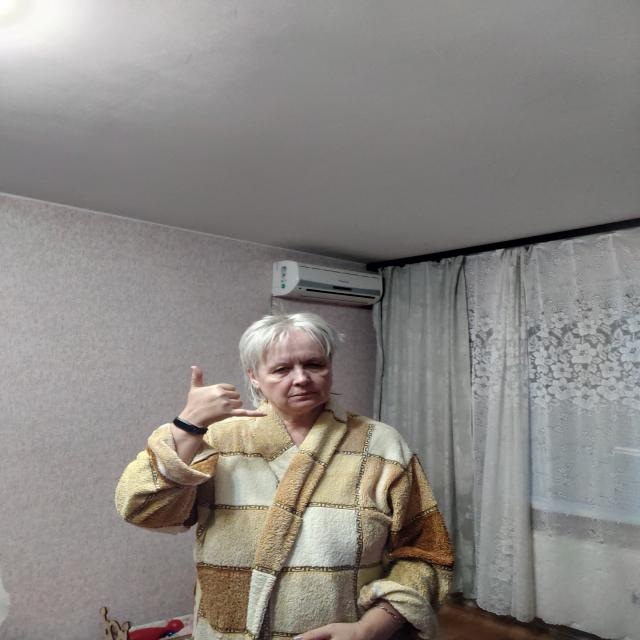call: (180, 363, 272, 427)
